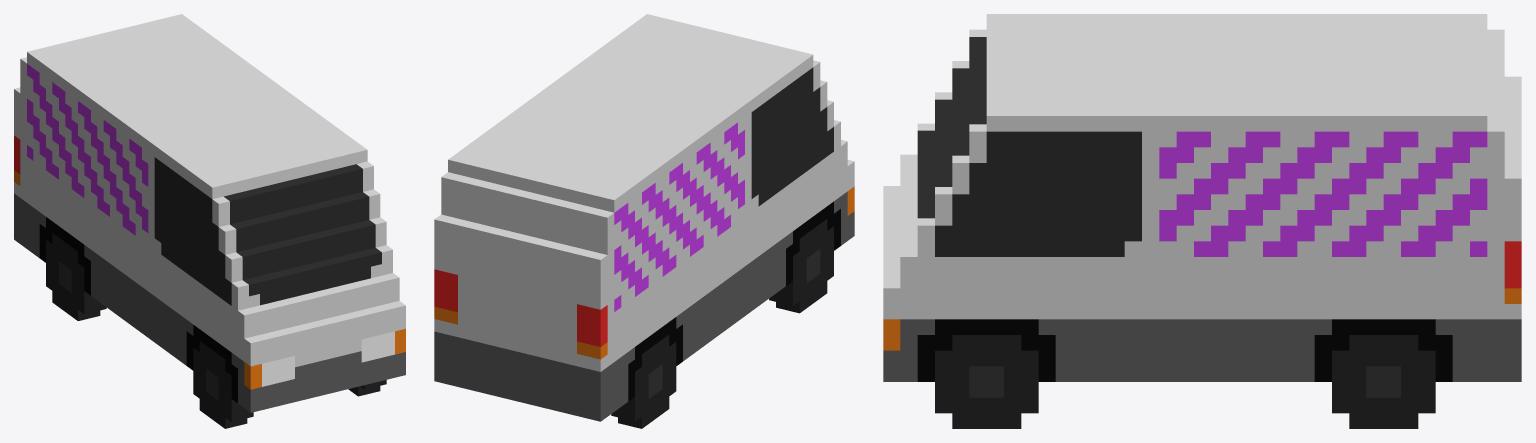
The model's file is kit-voxel-vans-van-style2-white-purple.glb.
The picture shows the model from 3 angles, left to right: view 1: azimuth 30°, elevation 25°; view 2: azimuth 150°, elevation 25°; view 3: azimuth 270°, elevation 25°; orthographic projection. The views are drawn at different scales.
Visible parts, largest first — view 1: geometry_1; view 2: geometry_1; view 3: geometry_1.
Part boxes in pixels (bbox=[...]): geometry_1: bbox=[14, 14, 405, 428]; geometry_1: bbox=[434, 14, 854, 428]; geometry_1: bbox=[883, 14, 1521, 428].
Size of the model in its own units: 1.4 by 2 by 3.7.
1 material, 1 textured.
